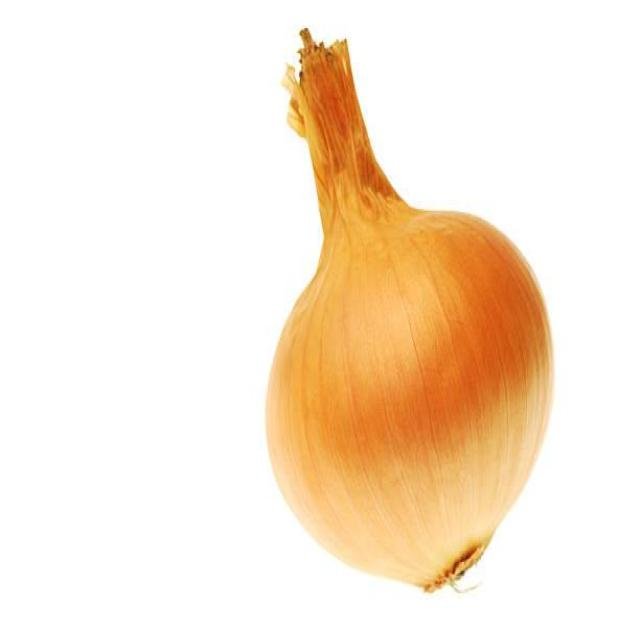Onion: (266, 33, 553, 592)
